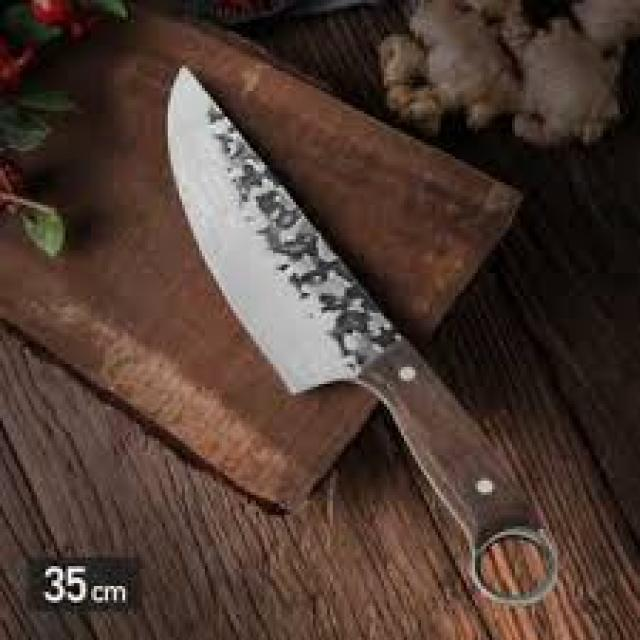Knife: (165, 68, 558, 603)
